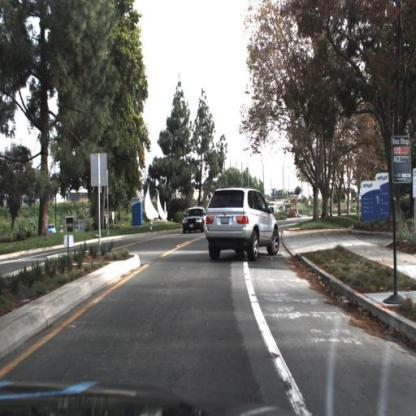car: (202, 187, 282, 266), (180, 203, 208, 236), (181, 203, 208, 237), (48, 224, 58, 235)
